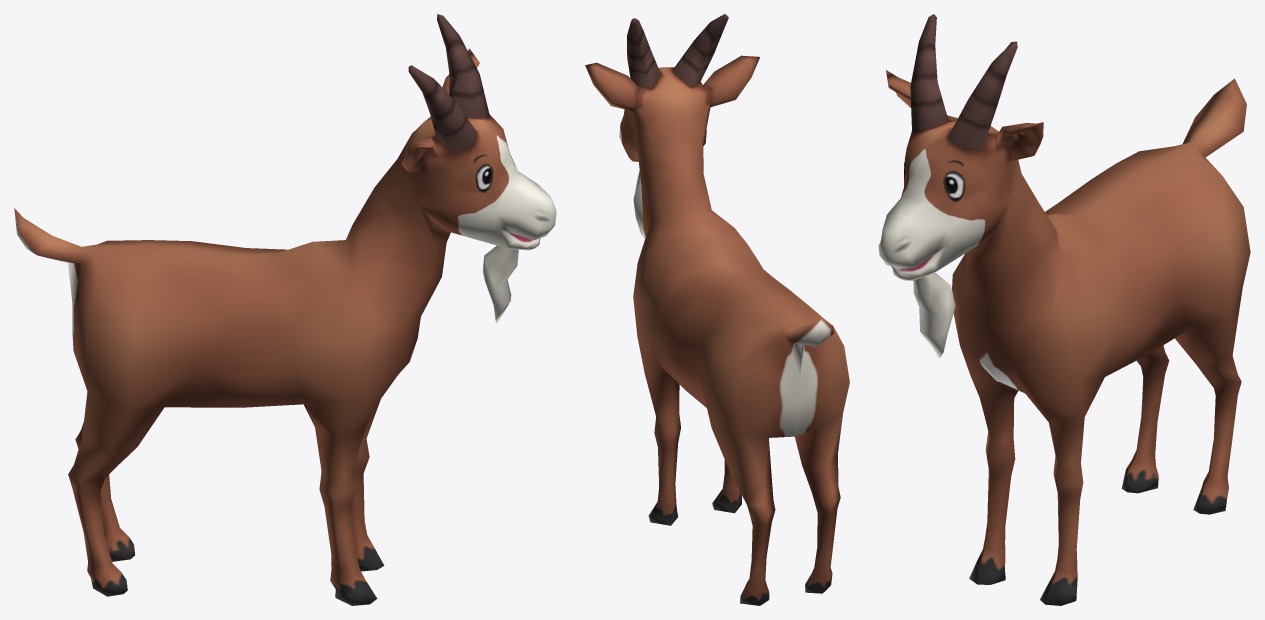
Rendered from goat.fbx.
The picture shows the model from 3 angles, left to right: view 1: azimuth 30°, elevation 25°; view 2: azimuth 150°, elevation 25°; view 3: azimuth 270°, elevation 25°; orthographic projection. The views are drawn at different scales.
Visible parts, largest first — view 1: goat; view 2: goat; view 3: goat.
Part boxes in pixels (left/top/right/bottom): goat: left=14, top=14, right=556, bottom=605; goat: left=585, top=14, right=849, bottom=605; goat: left=878, top=14, right=1250, bottom=605.
Size of the model in its own units: 75.72 by 103 by 59.75.
1 material, 1 textured.
